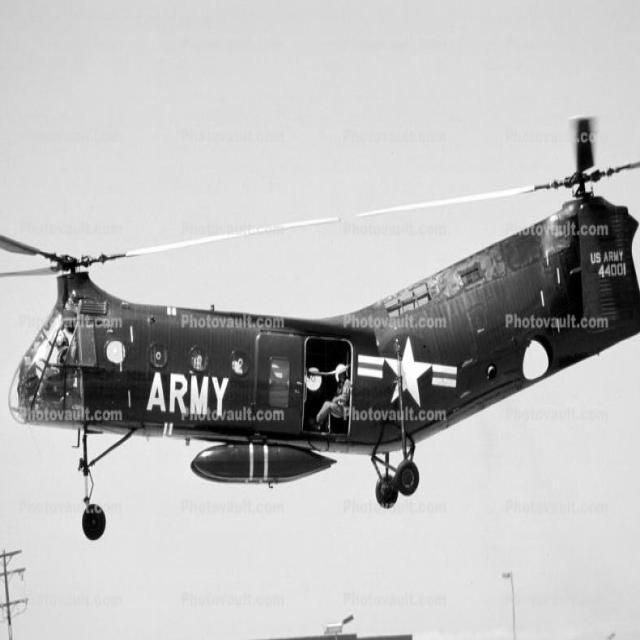helicopter: (1, 120, 637, 515)
